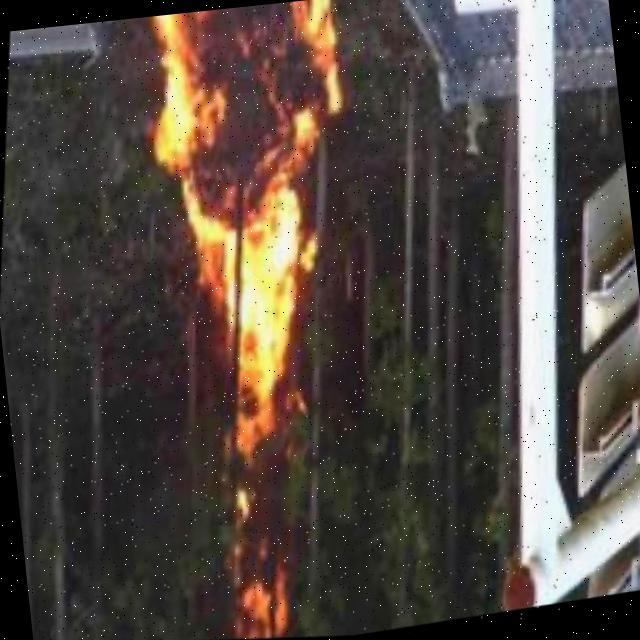fire: (89, 0, 397, 471), (206, 534, 311, 640)
